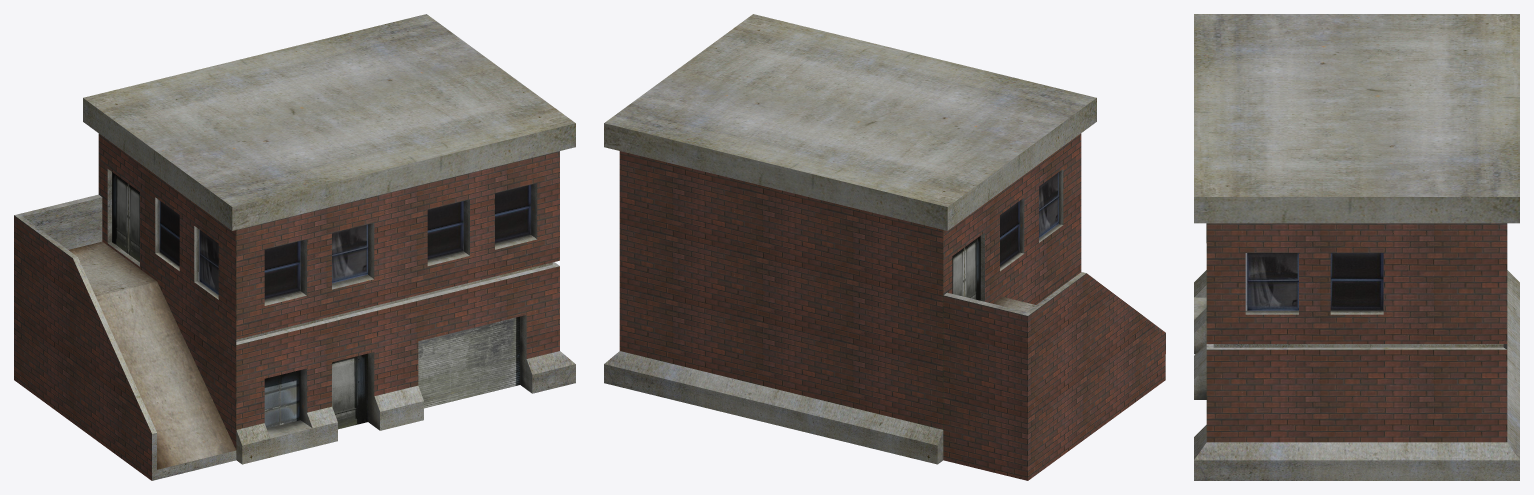
3 renders of one model, left to right at view 1: azimuth 30°, elevation 25°; view 2: azimuth 150°, elevation 25°; view 3: azimuth 270°, elevation 25°, orthographic. The views are drawn at different scales.
Parts seen in each view (by area): view 1: house2; view 2: house2; view 3: house2.
Boxes of the visible parts, x1,y1,x2,y2 form: house2: [14, 14, 575, 480]; house2: [604, 14, 1165, 480]; house2: [1194, 14, 1519, 480].
Size of the model in its own units: 584 by 347 by 361.
